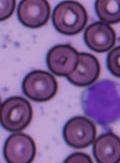L: (81, 78, 120, 125)
